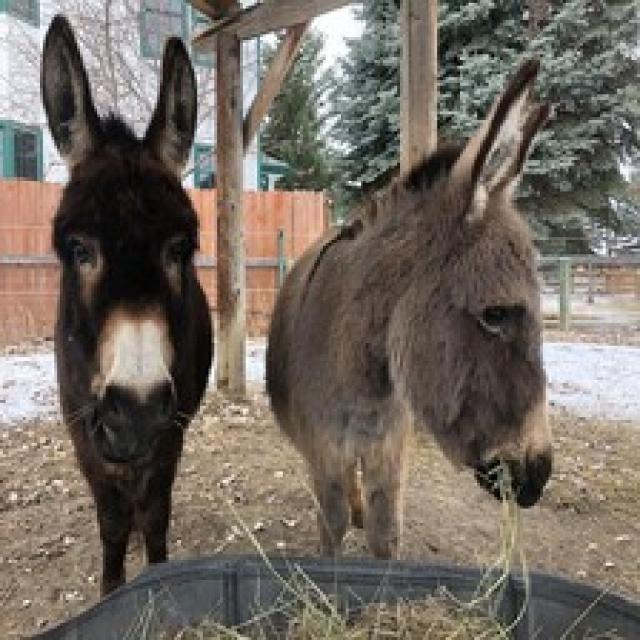Donkey: (278, 77, 586, 610), (262, 51, 554, 560), (11, 0, 238, 629)
